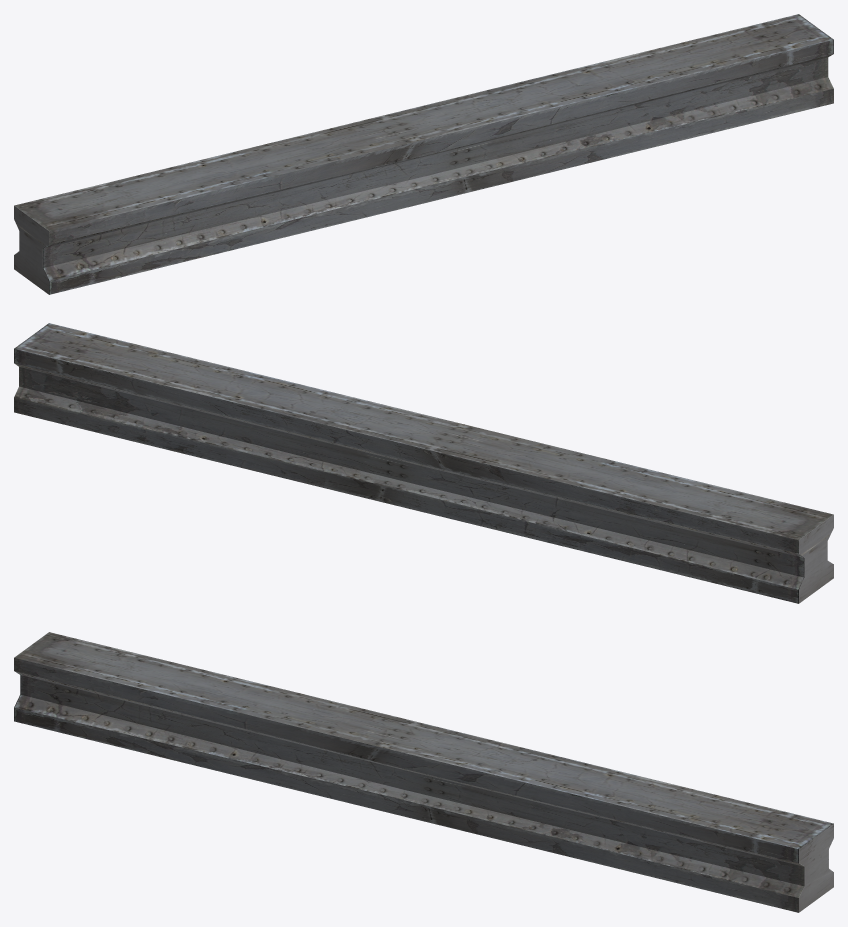
Rendered from Girder.fbx.
3 renders of one model, top to bottom at view 1: azimuth 30°, elevation 25°; view 2: azimuth 150°, elevation 25°; view 3: azimuth 330°, elevation 25°, orthographic.
Visible parts, largest first — view 1: Girder_01_1; view 2: Girder_01_1; view 3: Girder_01_1.
Part boxes in pixels (x1,y1,x2,y2): Girder_01_1: (14, 14, 833, 294); Girder_01_1: (14, 323, 833, 603); Girder_01_1: (14, 632, 833, 912).
Size of the model in its own units: 1000 by 77.5 by 77.5.
1 material, 1 textured.
